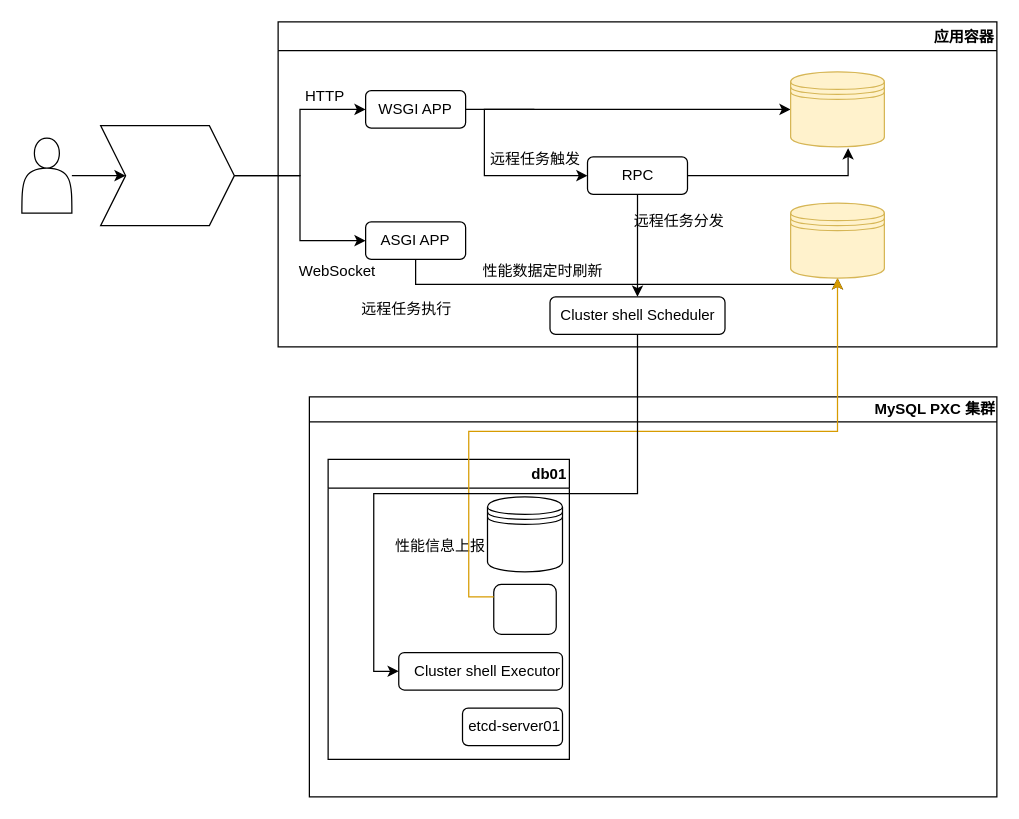
Some shapes in this 1019 by 819 pixel diagram are drawn without their labels. Each missing label, with the centre of its shape:
"exporter" goes at (524,608).
"mysql01" goes at (524,534).
"Postgresql" goes at (836,109).
"Prometheus" goes at (836,240).
"WEB UI" goes at (166,175).
